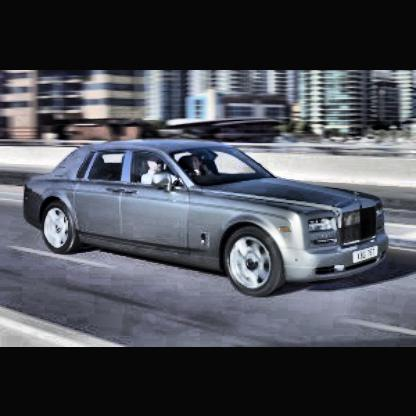Rolls-Royce Phantom Sedan 2012: (19, 134, 404, 299)
